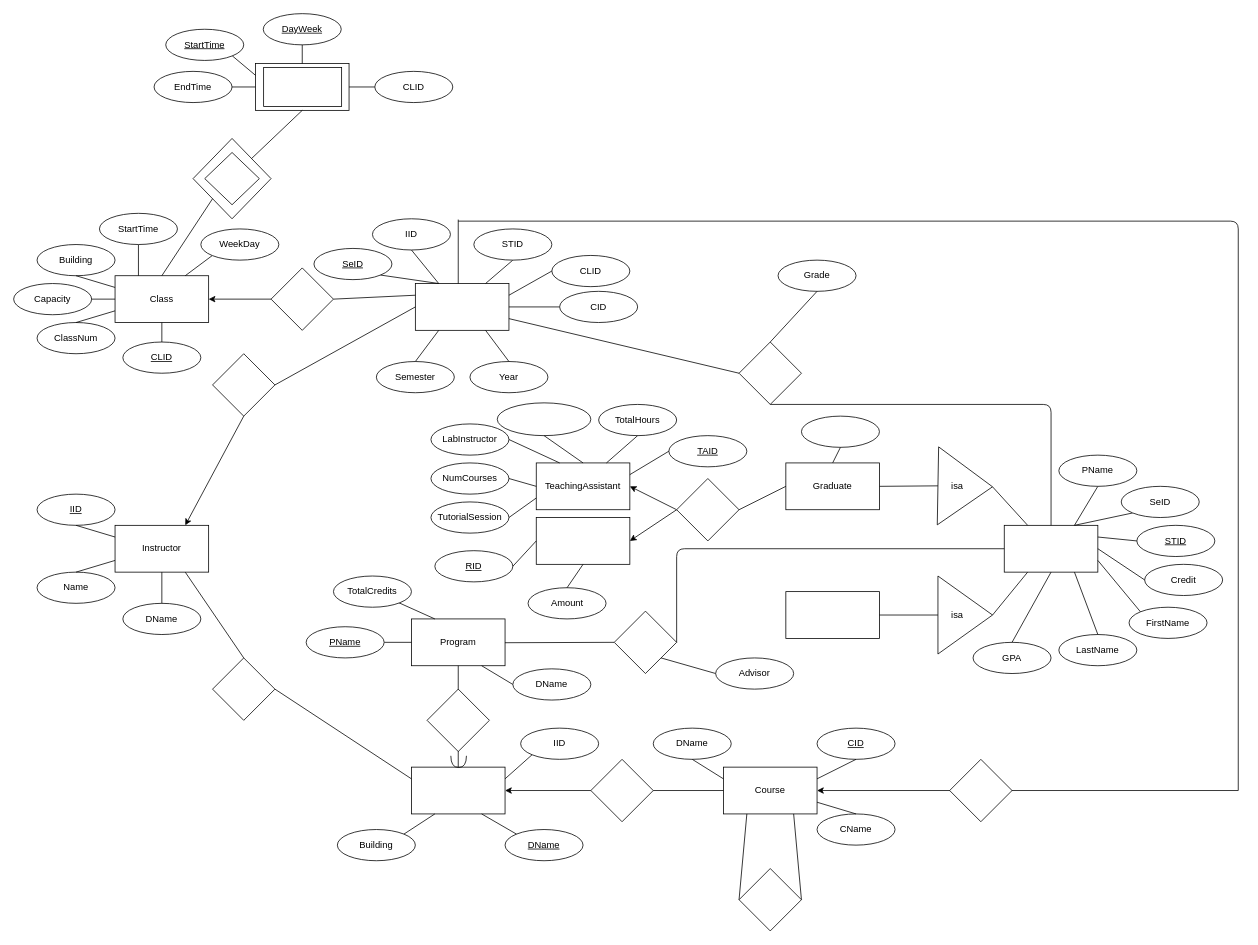
Some shapes in this 1258 by 945 pixel diagram are drawn without their labels. The centre of each missing label's shape, as x and y in pixels:
AssignmentMarking: point (543, 419)
Belong: point (645, 642)
Contains: point (301, 298)
Department: point (458, 790)
EnrolledIn: point (769, 372)
Fund: point (707, 509)
Has: point (980, 790)
Prereq-Follow: point (769, 899)
ResearchFunding: point (582, 540)
Schedule: point (231, 178)
Section: point (462, 306)
Student: point (1050, 548)
SupervisorID: point (840, 431)
Teach: point (243, 384)
Timeslot: point (302, 86)
Under: point (457, 720)
Undergraduate: point (832, 614)
Within: point (621, 790)
Work: point (243, 688)
